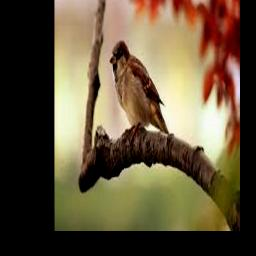Sparrow: (110, 40, 170, 135)
